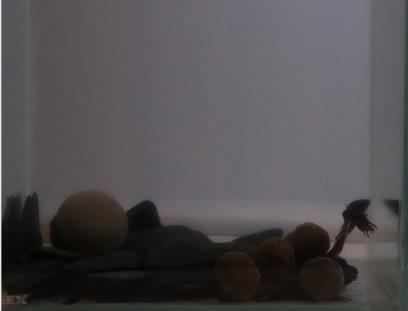fish: (334, 197, 378, 256)
